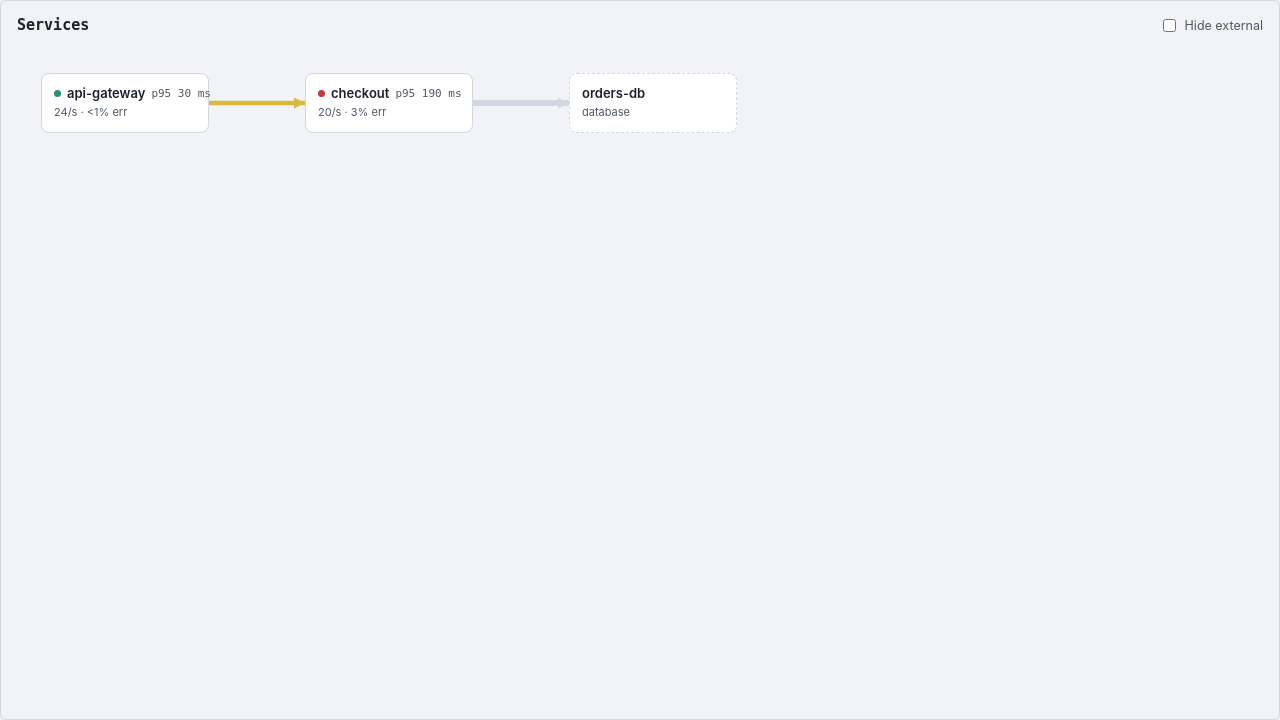
Test: CatalogServiceMap › hides external nodes when the hide-external toggle is on
Expected: the text "orders-db" is shown, [582, 84, 645, 103]
Click the checkbox labelled "Hide external".
click(1169, 26)  # box [1163, 19, 1176, 32]
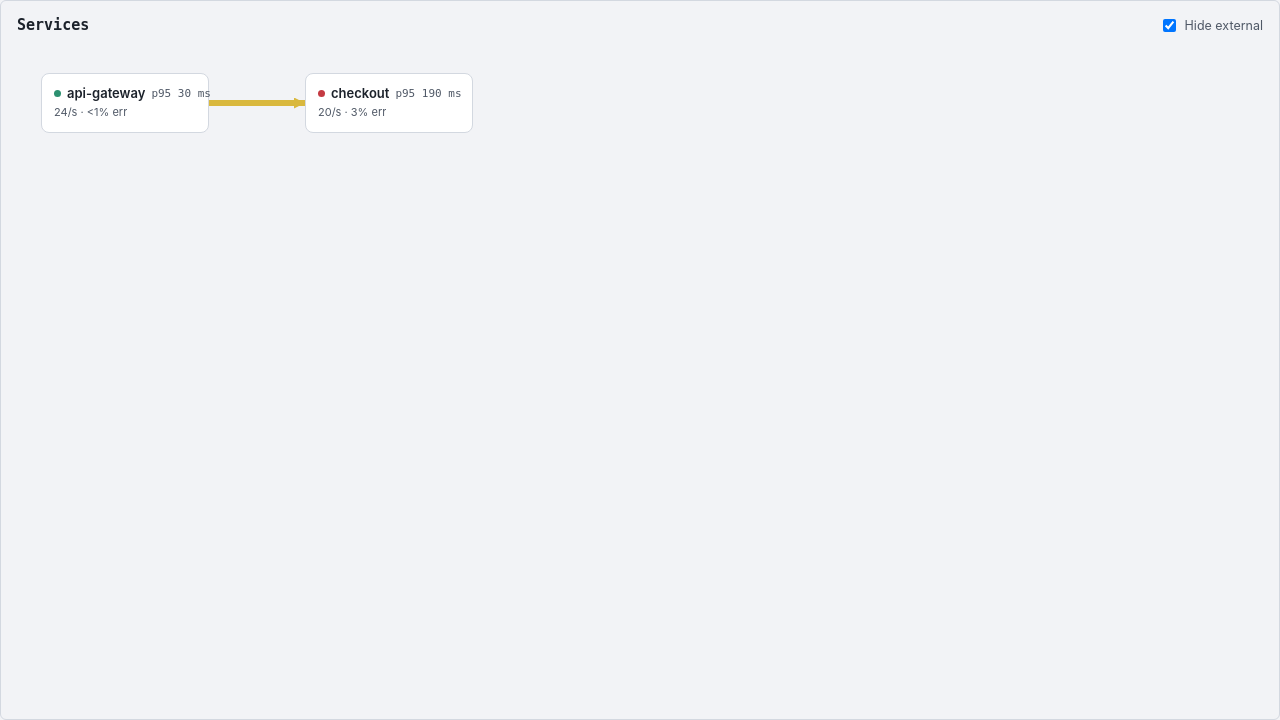
Expected: the text "checkout" is shown, [331, 84, 389, 103]
Expected: the button "orders-db" is gone
